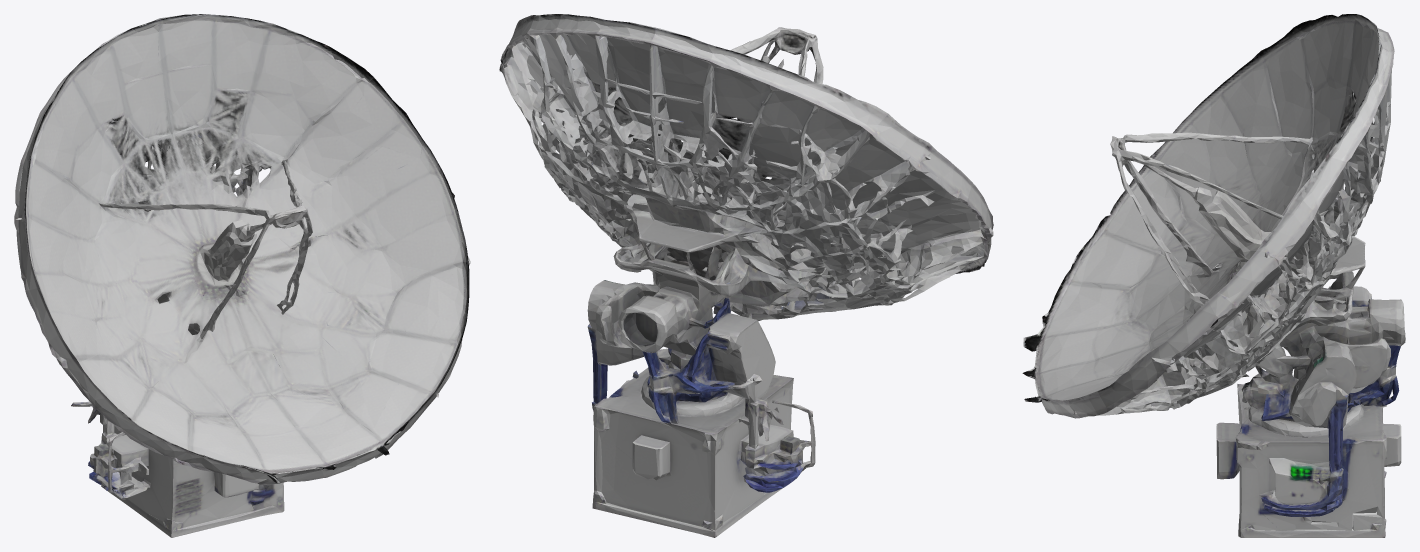
File: S-bandAntenna.glb
3 renders of one model, left to right at view 1: azimuth 30°, elevation 25°; view 2: azimuth 150°, elevation 25°; view 3: azimuth 270°, elevation 25°, orthographic. The views are drawn at different scales.
Visible parts, largest first — view 1: world; view 2: world; view 3: world.
Part boxes in pixels (box(x1,y1,x2,y2)): world: box(14, 14, 470, 537); world: box(499, 14, 993, 537); world: box(1022, 14, 1405, 537).
Bounding box in the file's own units: 0.9586 × 0.9823 × 0.7326.
1 material, 1 textured.
